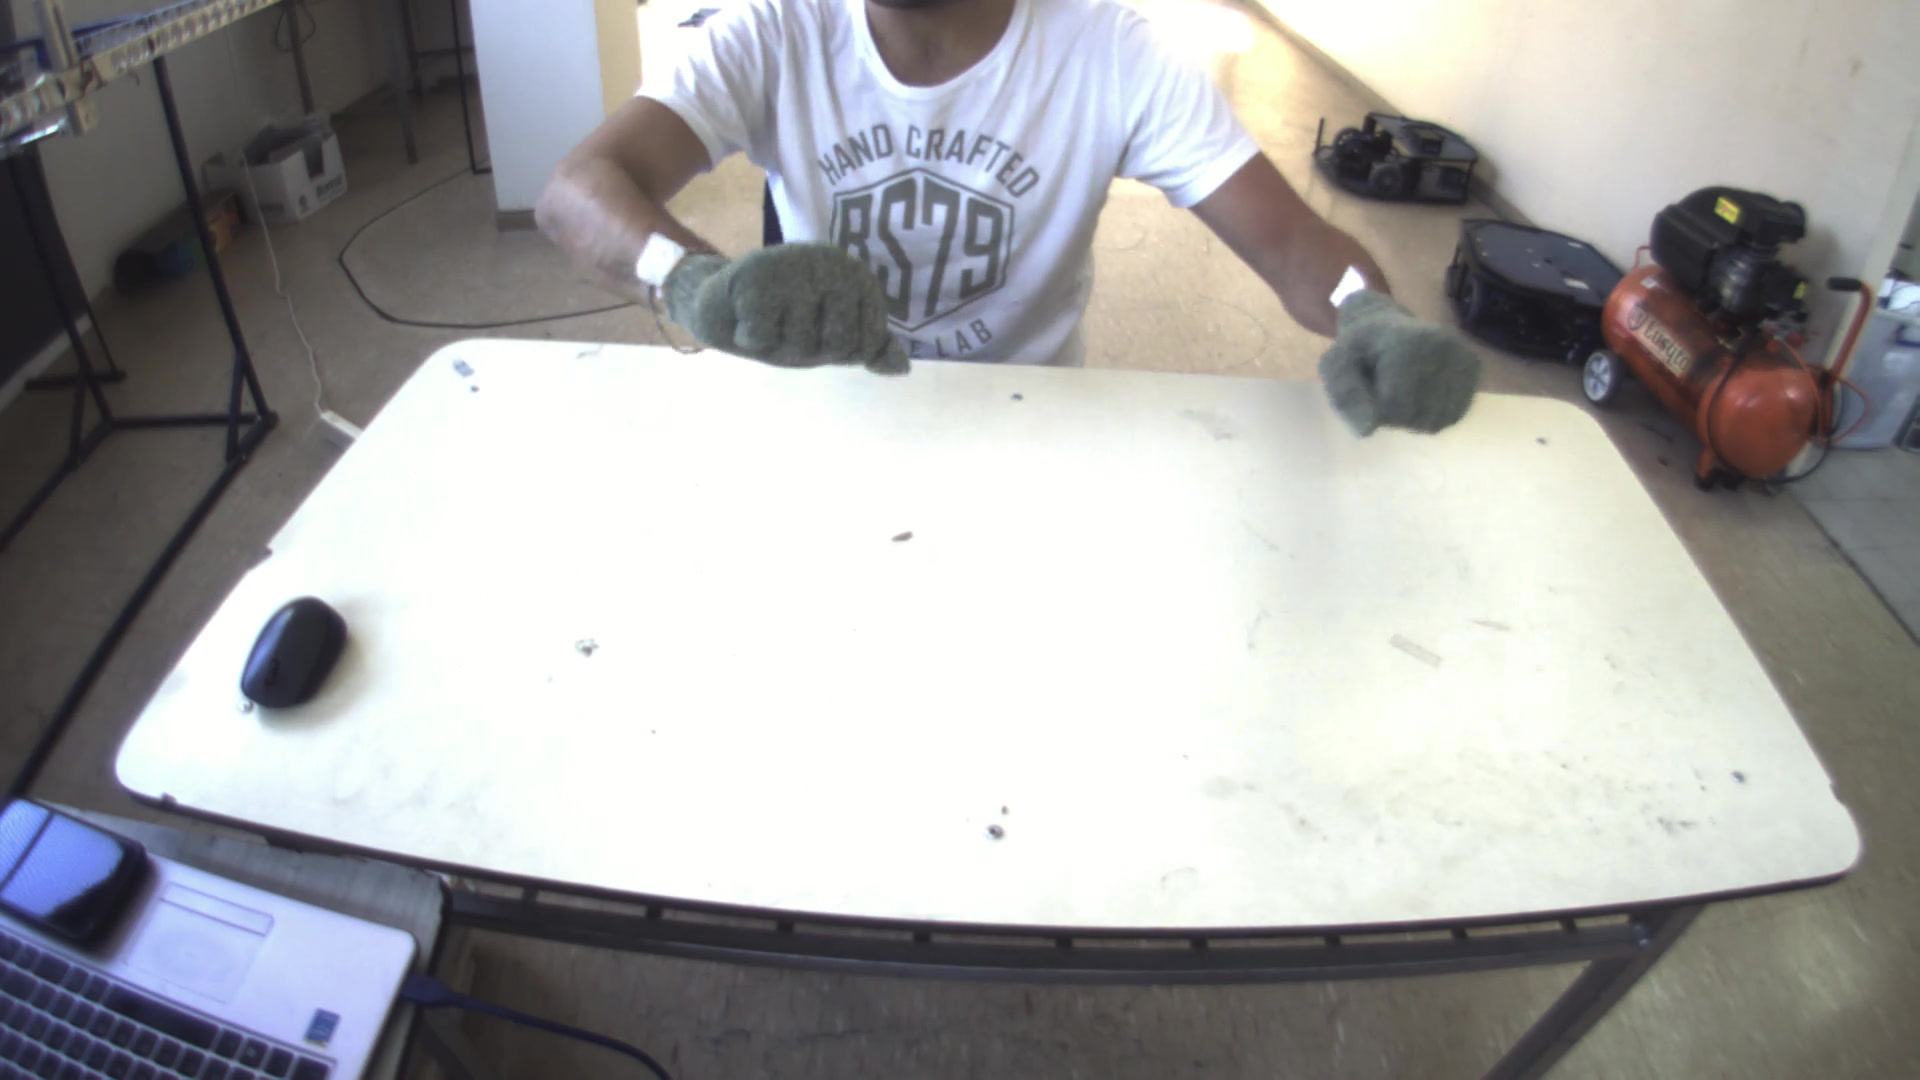hand: (658, 222, 913, 368), (1320, 285, 1499, 443)
